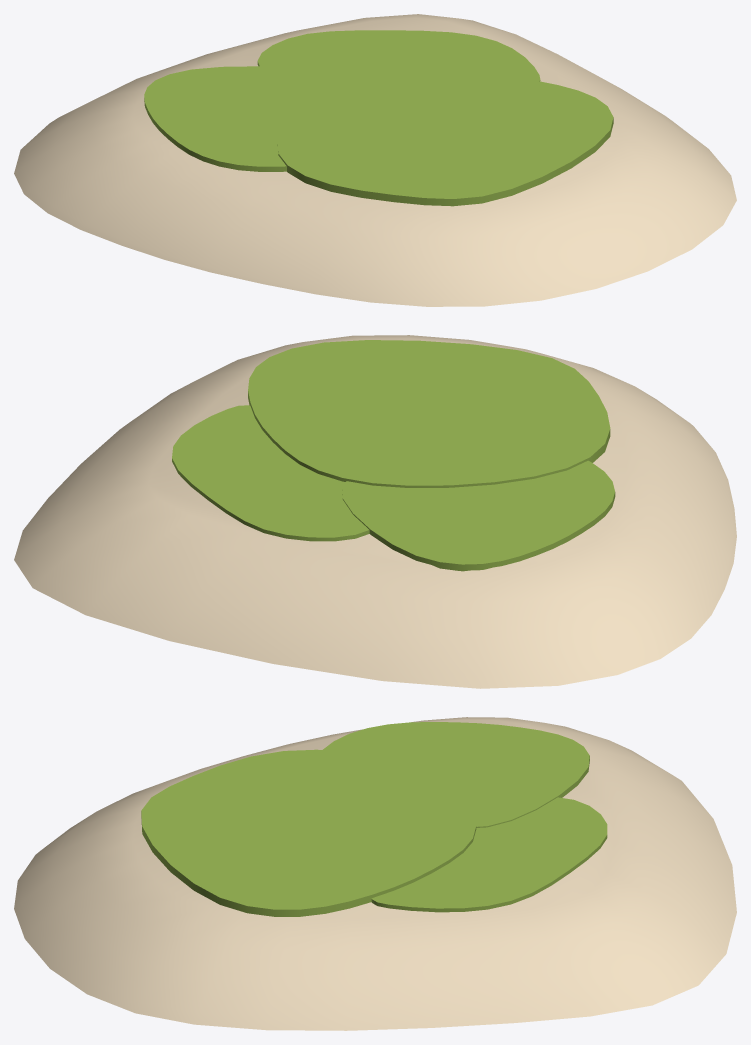
The model's file is Island_1.fbx.
The picture shows the model from 3 angles, top to bottom: view 1: azimuth 30°, elevation 25°; view 2: azimuth 150°, elevation 25°; view 3: azimuth 270°, elevation 25°; orthographic projection. The views are drawn at different scales.
Parts seen in each view (by area): view 1: Island_1; view 2: Island_1; view 3: Island_1.
Part boxes in pixels (left/top/right/bottom): Island_1: left=14, top=14, right=736, bottom=306; Island_1: left=14, top=335, right=736, bottom=688; Island_1: left=14, top=717, right=736, bottom=1030.
Size of the model in its own units: 21.58 by 2.31 by 22.
